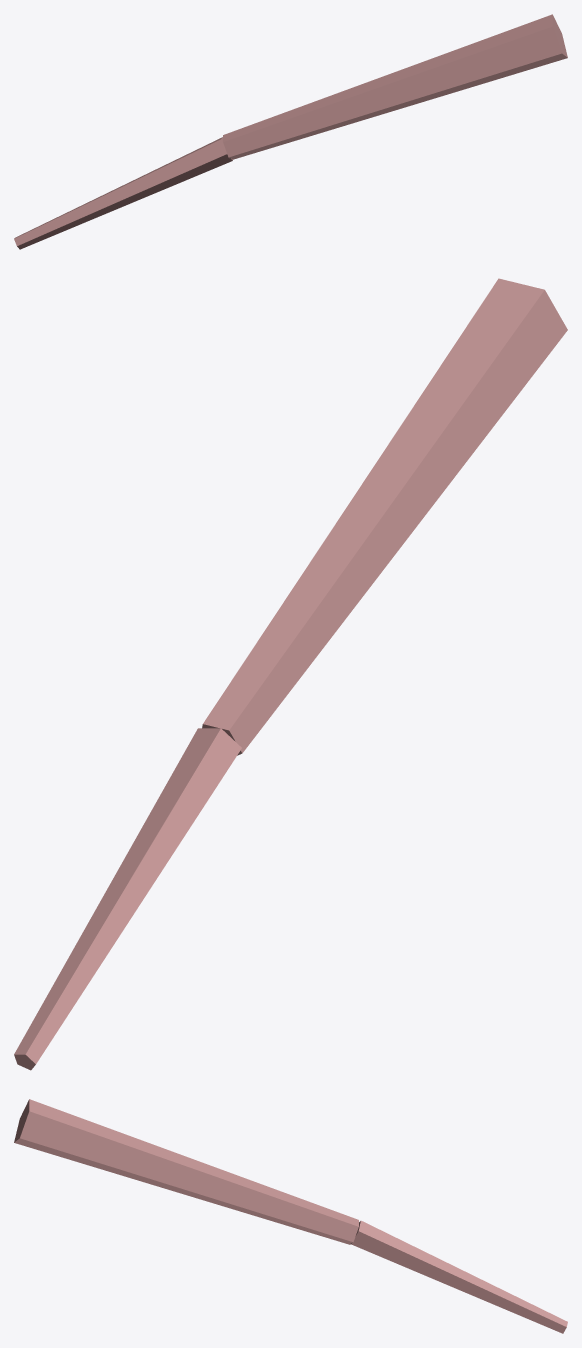
File: rat_2_tail.glb
3 views of the same model, one above another, from view 1: azimuth 90°, elevation 25°; view 2: azimuth 150°, elevation 25°; view 3: azimuth 270°, elevation 25° (orthographic). The views are drawn at different scales.
Visible parts, largest first — view 1: rat_2_tail; view 2: rat_2_tail; view 3: rat_2_tail.
Part boxes in pixels (x1,y1,x2,y2): rat_2_tail: (14,14,567,249); rat_2_tail: (14,278,567,1070); rat_2_tail: (14,1099,567,1333).
Bounding box in the file's own units: 0.0266 × 0.144 × 0.3165.
